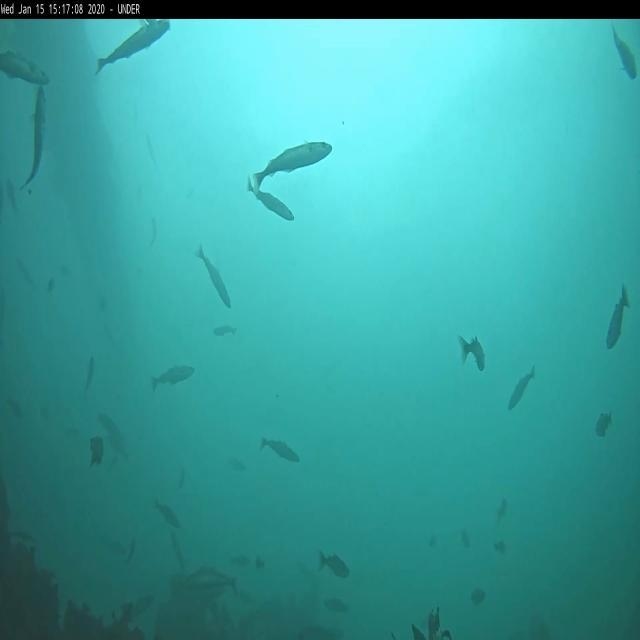fish: (253, 141, 333, 191), (96, 20, 170, 74), (21, 85, 47, 190), (247, 176, 294, 222), (198, 248, 232, 311), (1, 51, 50, 84), (184, 566, 240, 594), (606, 284, 628, 350), (612, 26, 637, 82), (150, 365, 194, 392), (508, 366, 536, 408), (458, 333, 486, 371), (125, 592, 156, 624), (262, 438, 300, 462), (318, 553, 351, 579), (154, 498, 182, 528), (98, 411, 122, 443), (15, 258, 36, 290), (594, 410, 614, 436), (172, 532, 186, 568), (326, 597, 350, 612), (86, 356, 95, 396), (8, 176, 18, 209), (496, 500, 508, 522), (212, 325, 236, 335), (470, 590, 486, 604), (494, 540, 506, 552)
